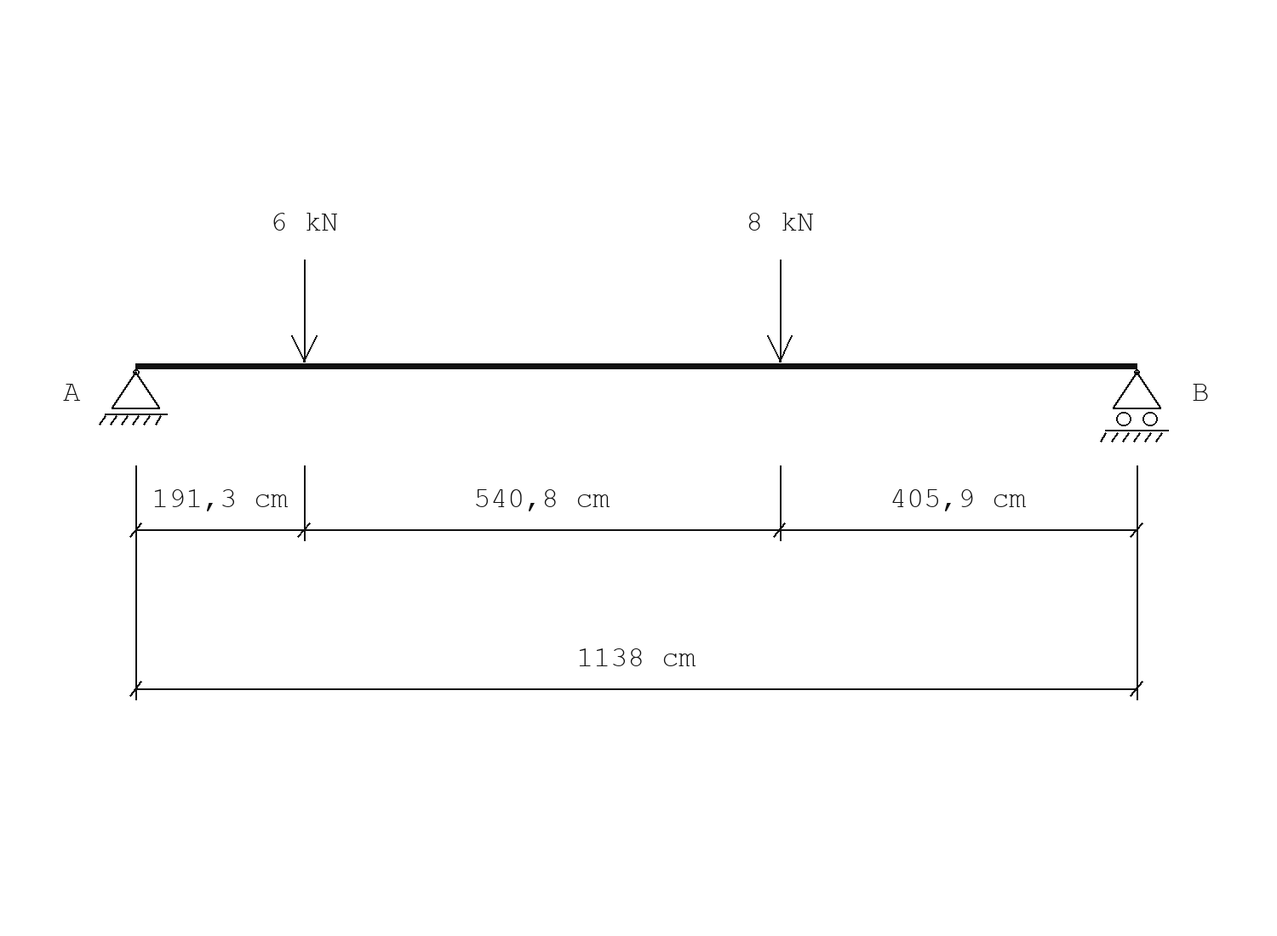pin_support: (99, 369, 168, 425)
point_load: (291, 260, 318, 362), (767, 260, 793, 362)
roller_support: (1100, 369, 1169, 442)
